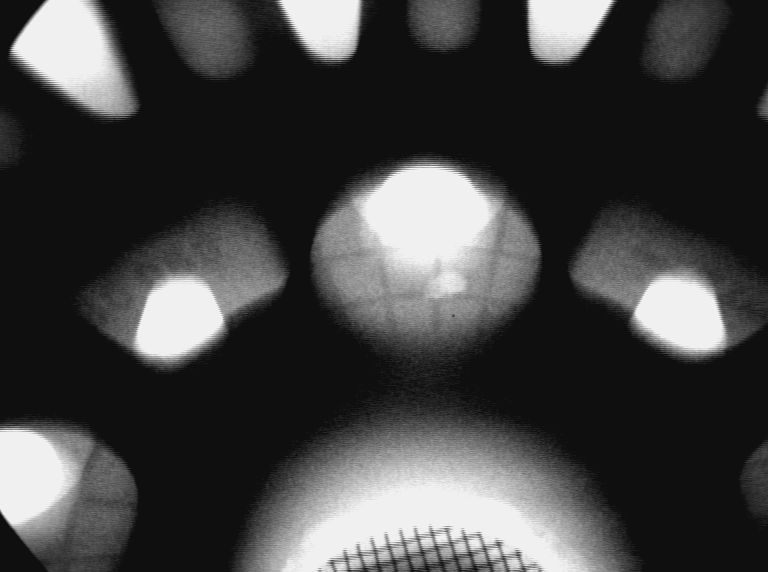defect: (423, 269, 469, 302)
